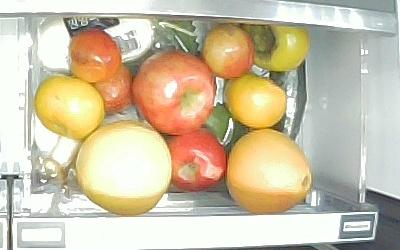apple: (131, 49, 218, 135), (162, 128, 228, 192)
grapefruit: (76, 119, 172, 216), (225, 127, 312, 215)
persimmon: (34, 75, 105, 140), (223, 74, 286, 128), (239, 22, 309, 70)
prune: (203, 24, 255, 80), (68, 28, 121, 82), (91, 62, 134, 114)
